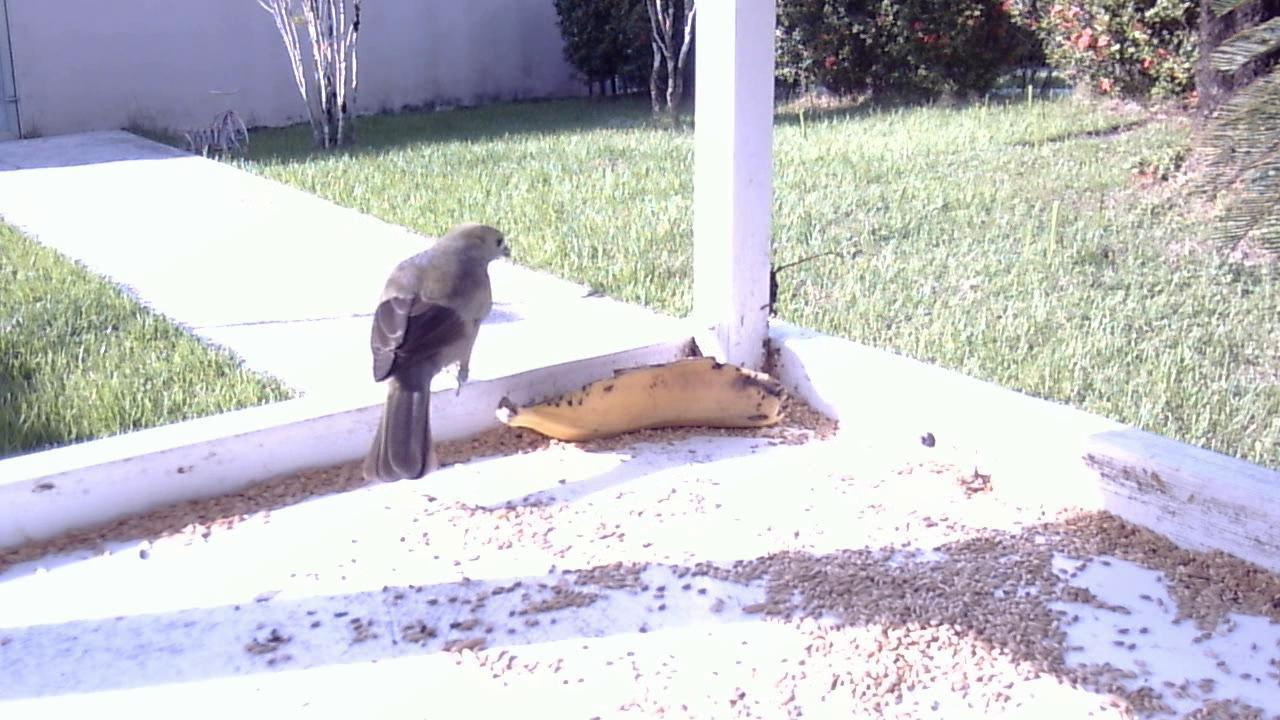sanhaco_do_coqueiro: (357, 214, 524, 485)
